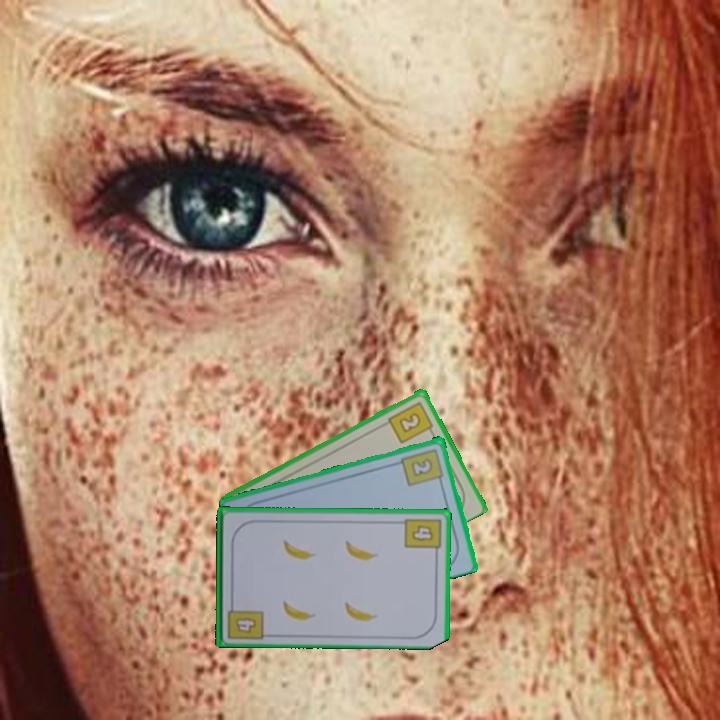2b: (385, 398, 437, 446), (398, 445, 447, 489)
4b: (224, 597, 266, 642), (401, 515, 443, 558)
